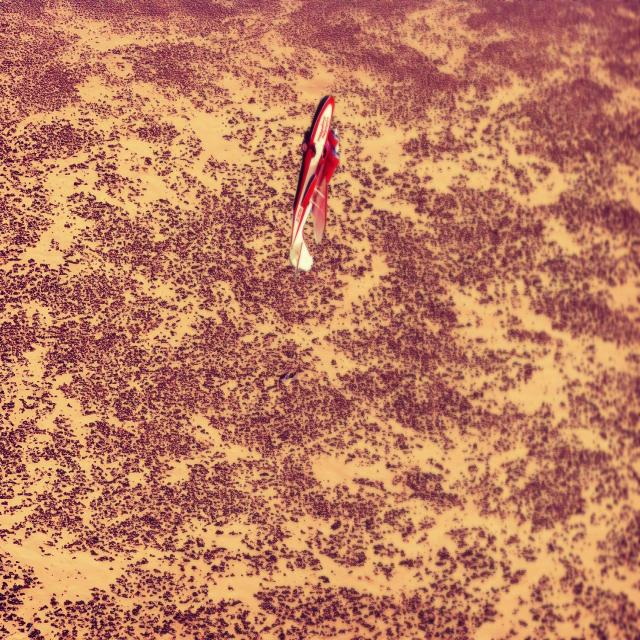airplane: (289, 93, 340, 279)
